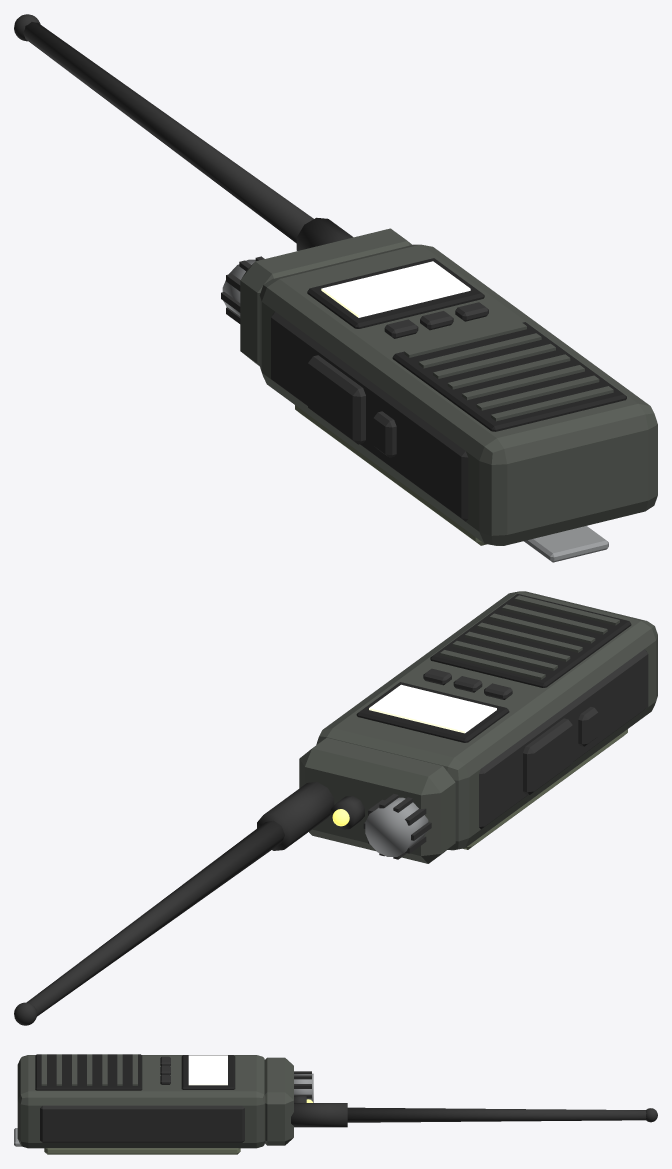
The model's file is radio.glb.
3 renders of one model, top to bottom at view 1: azimuth 30°, elevation 25°; view 2: azimuth 150°, elevation 25°; view 3: azimuth 270°, elevation 25°, orthographic. The views are drawn at different scales.
Visible parts, largest first — view 1: Radio; view 2: Radio; view 3: Radio.
Part boxes in pixels (left/top/right/bottom): Radio: left=14, top=14, right=657, bottom=562; Radio: left=14, top=591, right=657, bottom=1025; Radio: left=14, top=1054, right=657, bottom=1154.
Bounding box in the file's own units: 0.0665 × 0.044 × 0.361.
